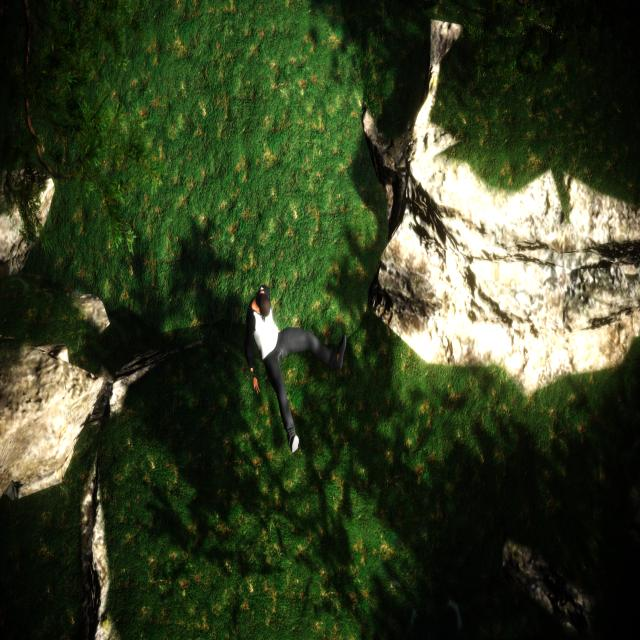Human: (240, 274, 352, 462)
